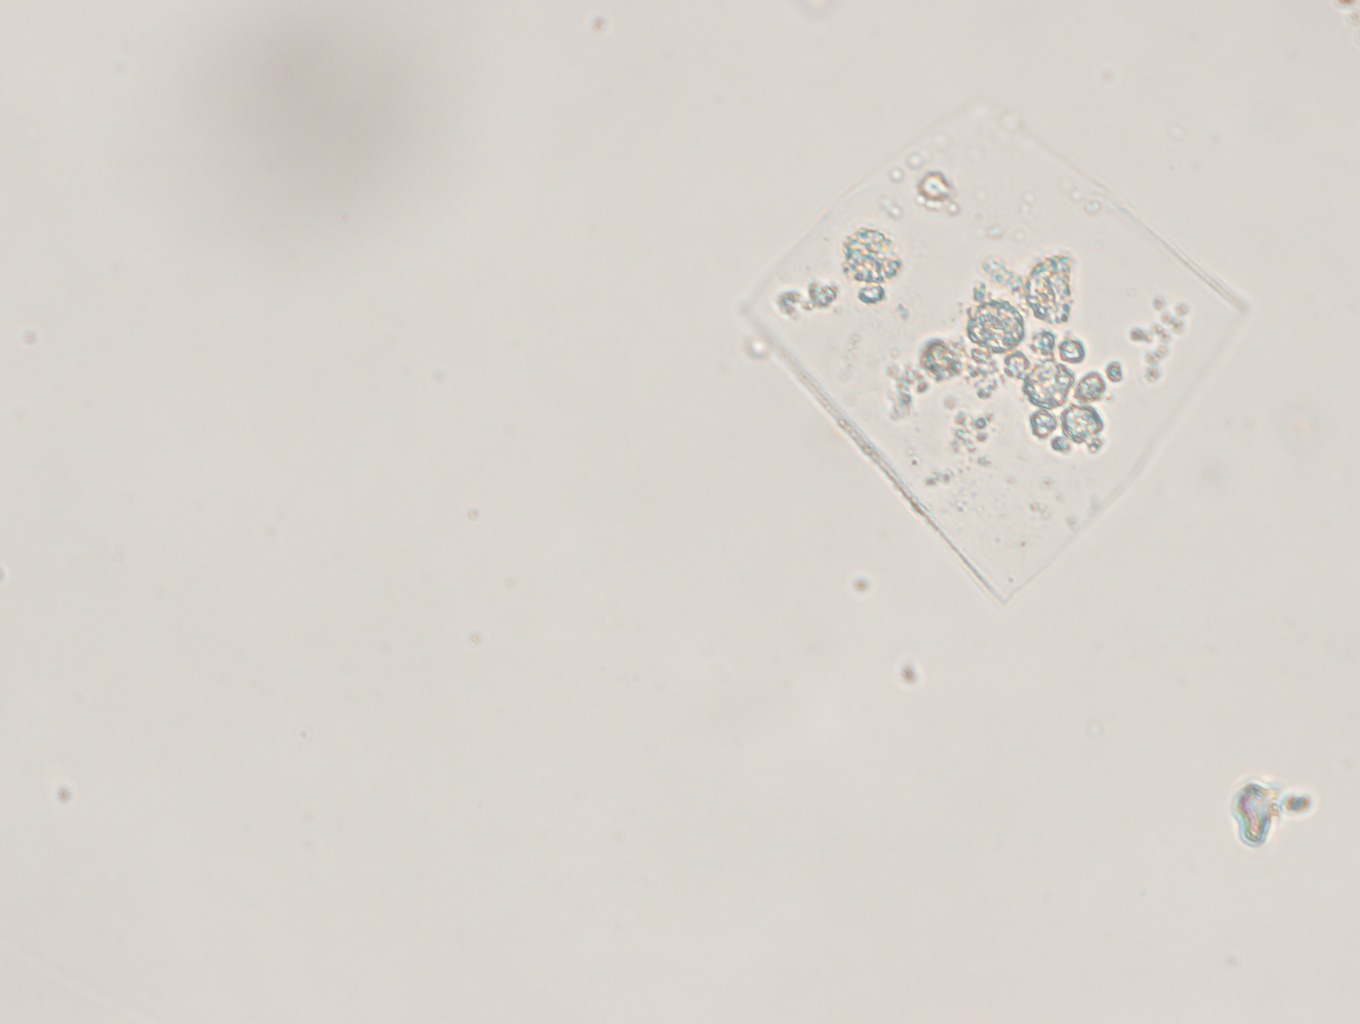helicotheca: (735, 97, 1256, 608)
